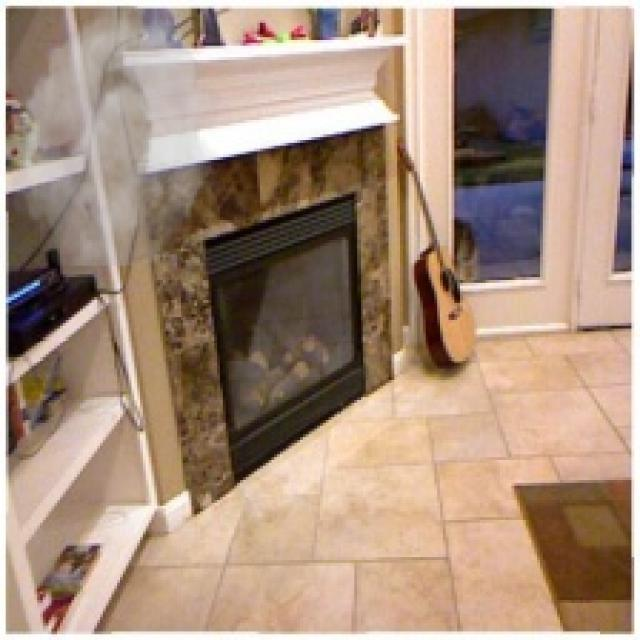Smoke: (3, 6, 223, 266)
